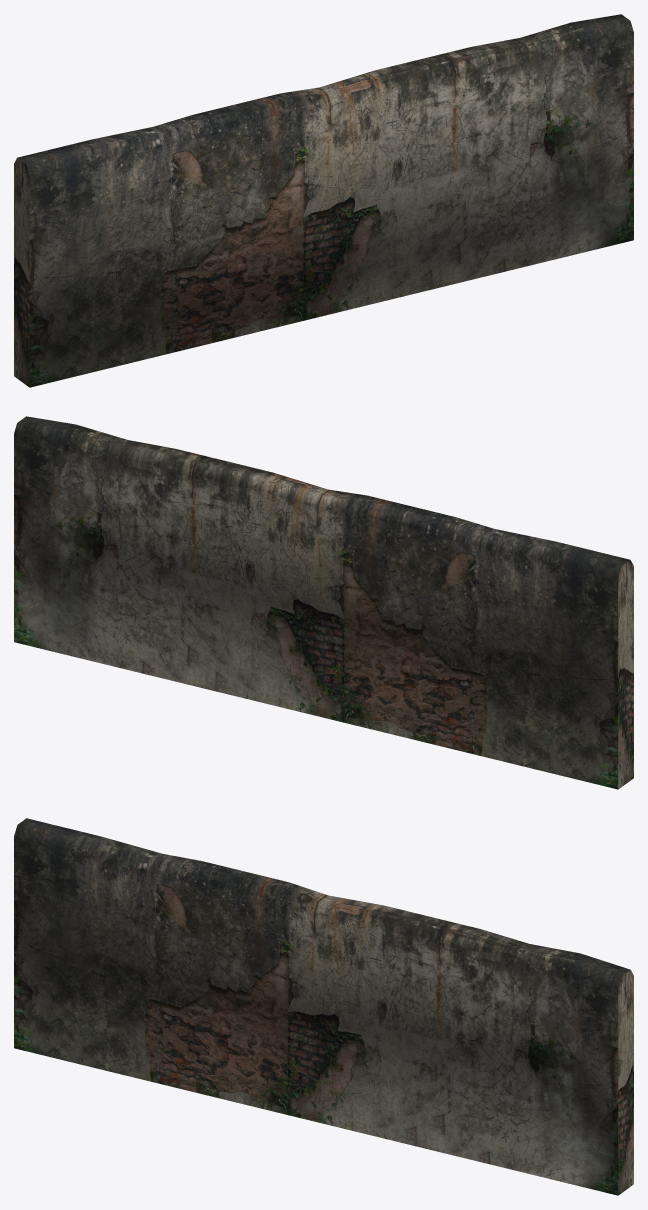
Rendered from oldwall.obj.
3 views of the same model, one above another, from view 1: azimuth 30°, elevation 25°; view 2: azimuth 150°, elevation 25°; view 3: azimuth 330°, elevation 25° (orthographic).
Visible parts, largest first — view 1: def_surf_mat; view 2: def_surf_mat; view 3: def_surf_mat.
Part boxes in pixels (x1=…): def_surf_mat: x1=14, y1=14, x2=633, y2=387; def_surf_mat: x1=14, y1=416, x2=633, y2=789; def_surf_mat: x1=14, y1=818, x2=633, y2=1195.
Bounding box in the file's own units: 231 × 80.55 × 10.35.
Materials: 1 (1 with a texture image).
